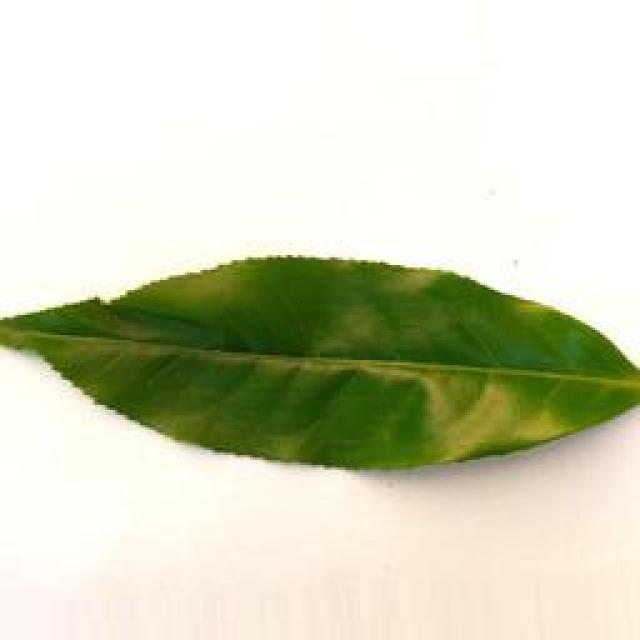Healthy: (2, 250, 640, 476)
